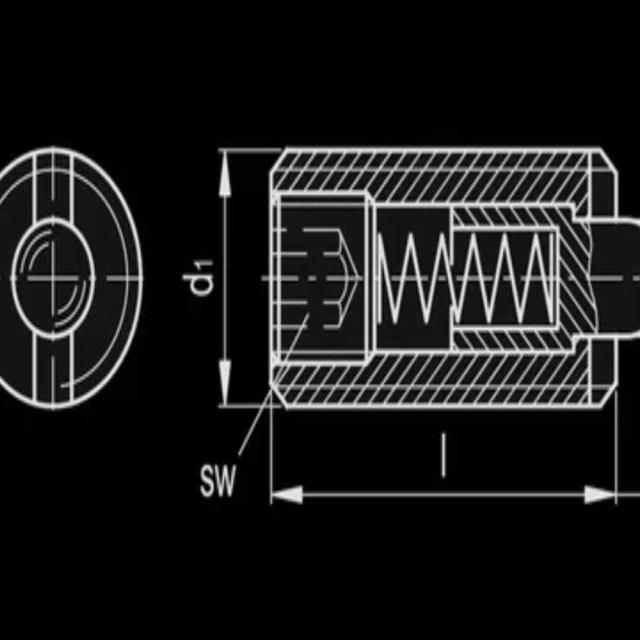marking_line: (268, 412, 619, 508), (217, 145, 266, 410)
numeric: (192, 259, 216, 270)
